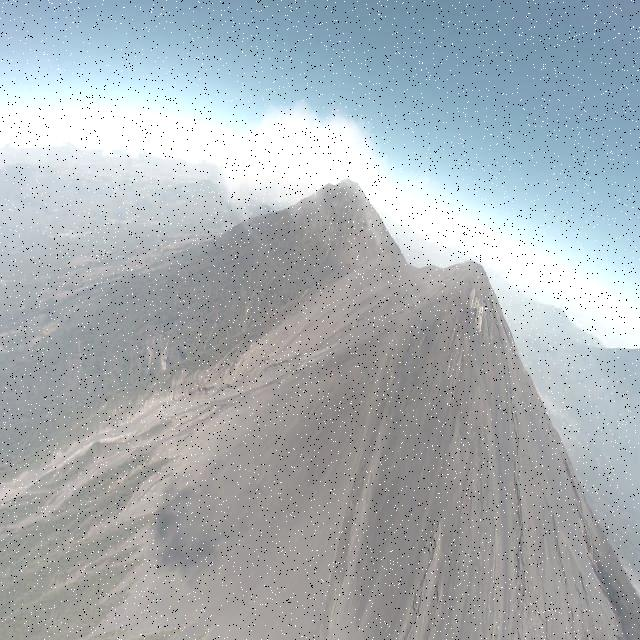Plume: (226, 93, 386, 234)
Summit: (418, 253, 511, 335)
